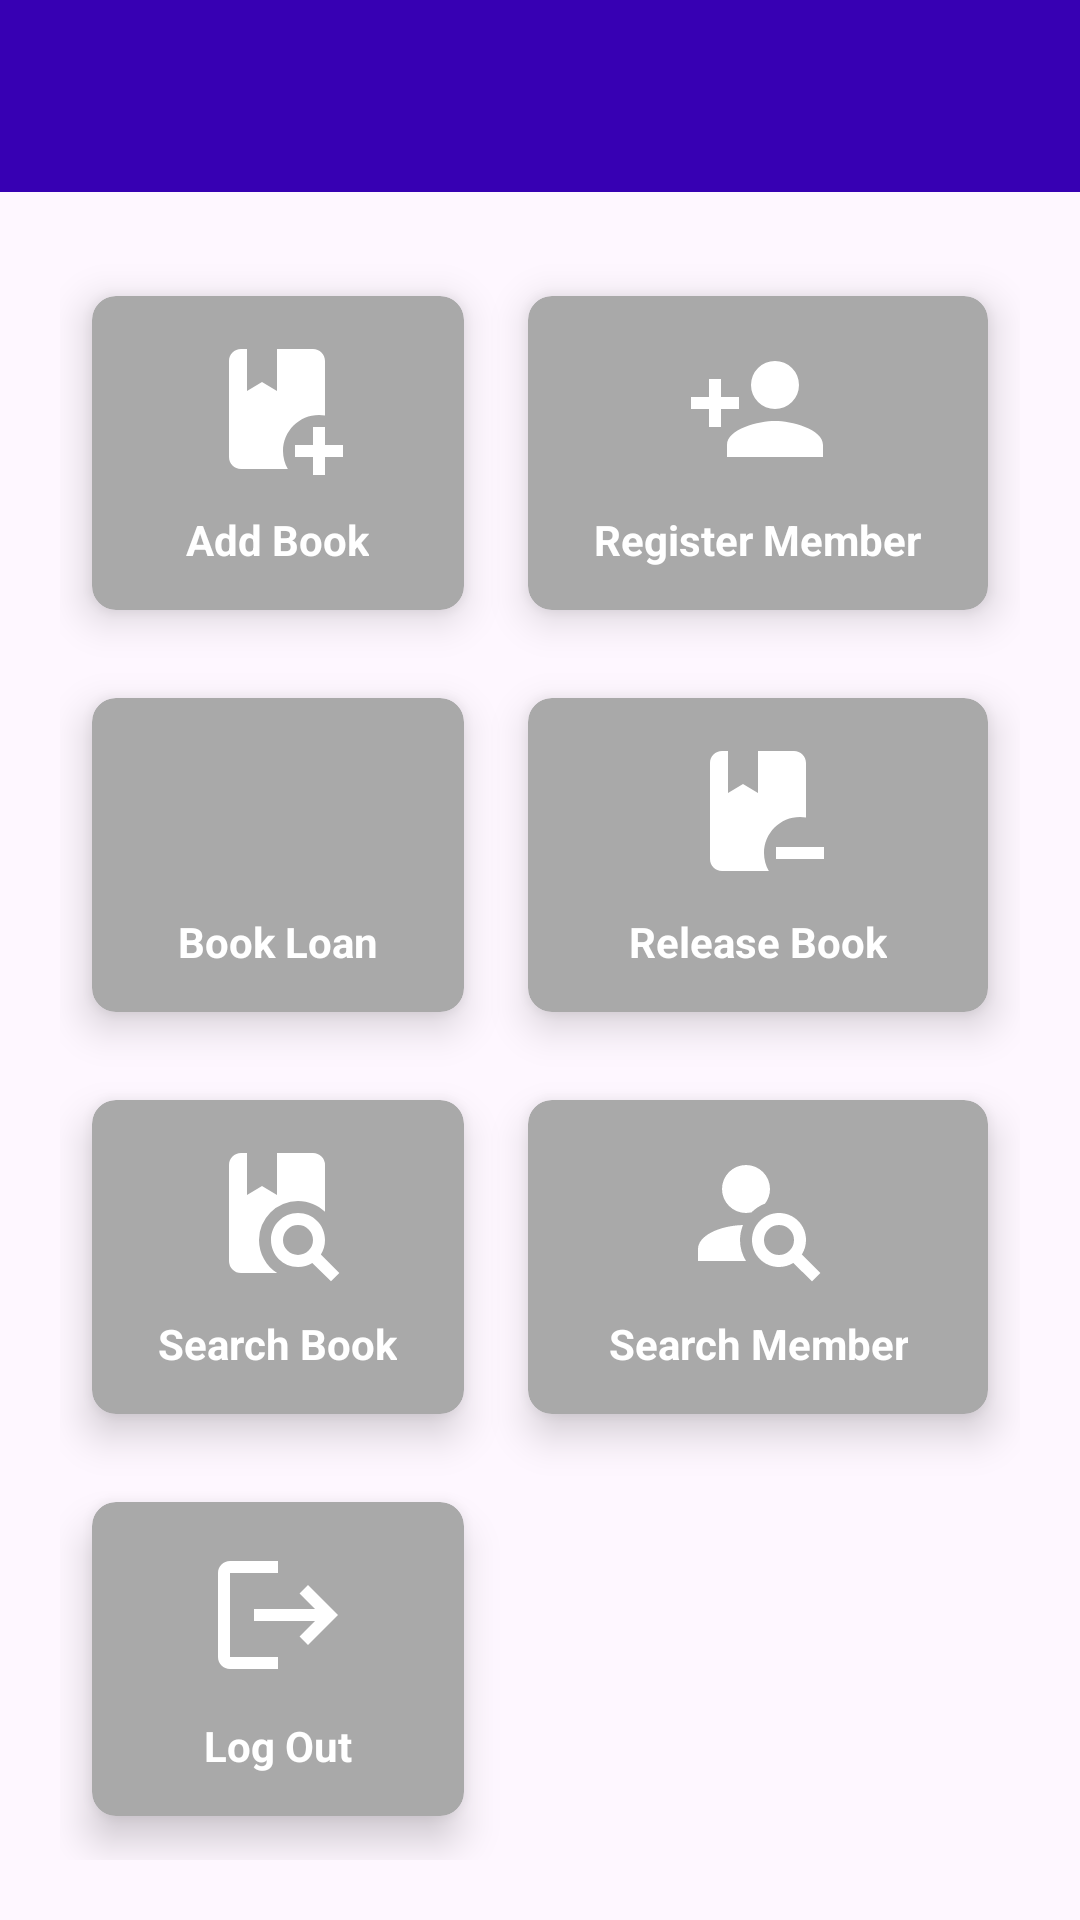

Named icons in this screenshot (1080 x 1920) and their bounding boxes, detection(x1, y1, x2, y2):
account plus: detection(691, 361, 823, 457)
account search: detection(698, 1165, 820, 1281)
book minus: detection(710, 751, 824, 871)
book plus: detection(229, 349, 343, 475)
